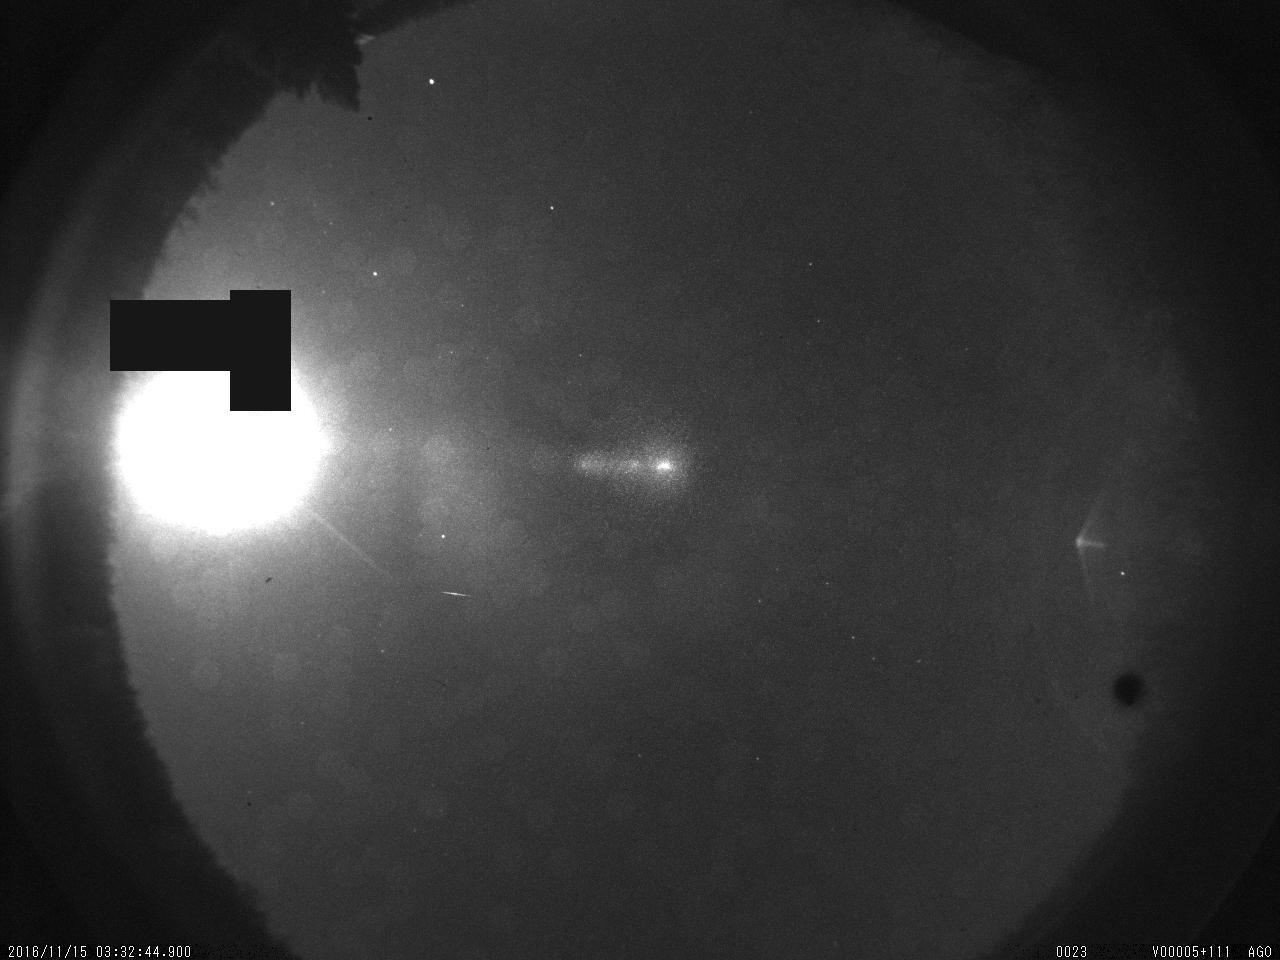meteor: (433, 581, 486, 605)
